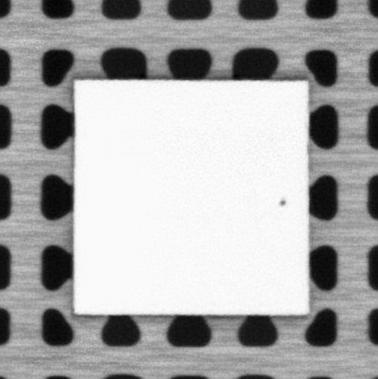DIE_INK: (277, 197, 287, 208)
